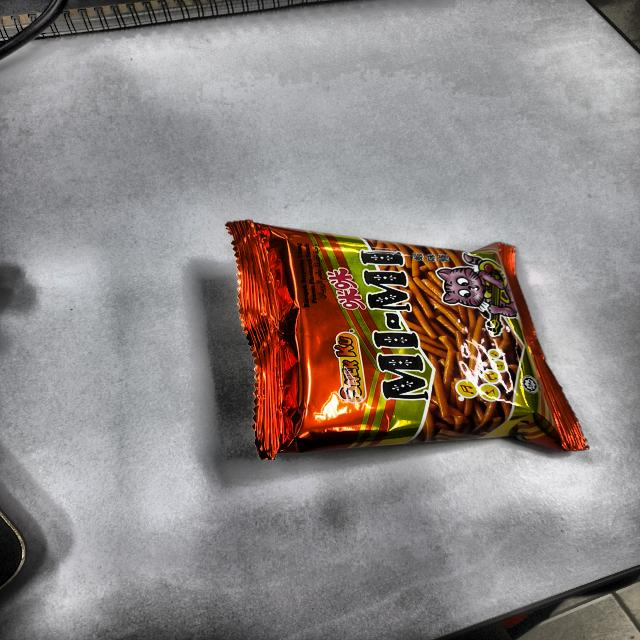Plastic: (212, 216, 606, 466)
